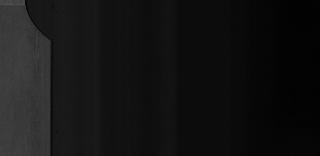welding line: (1, 3, 33, 9)
